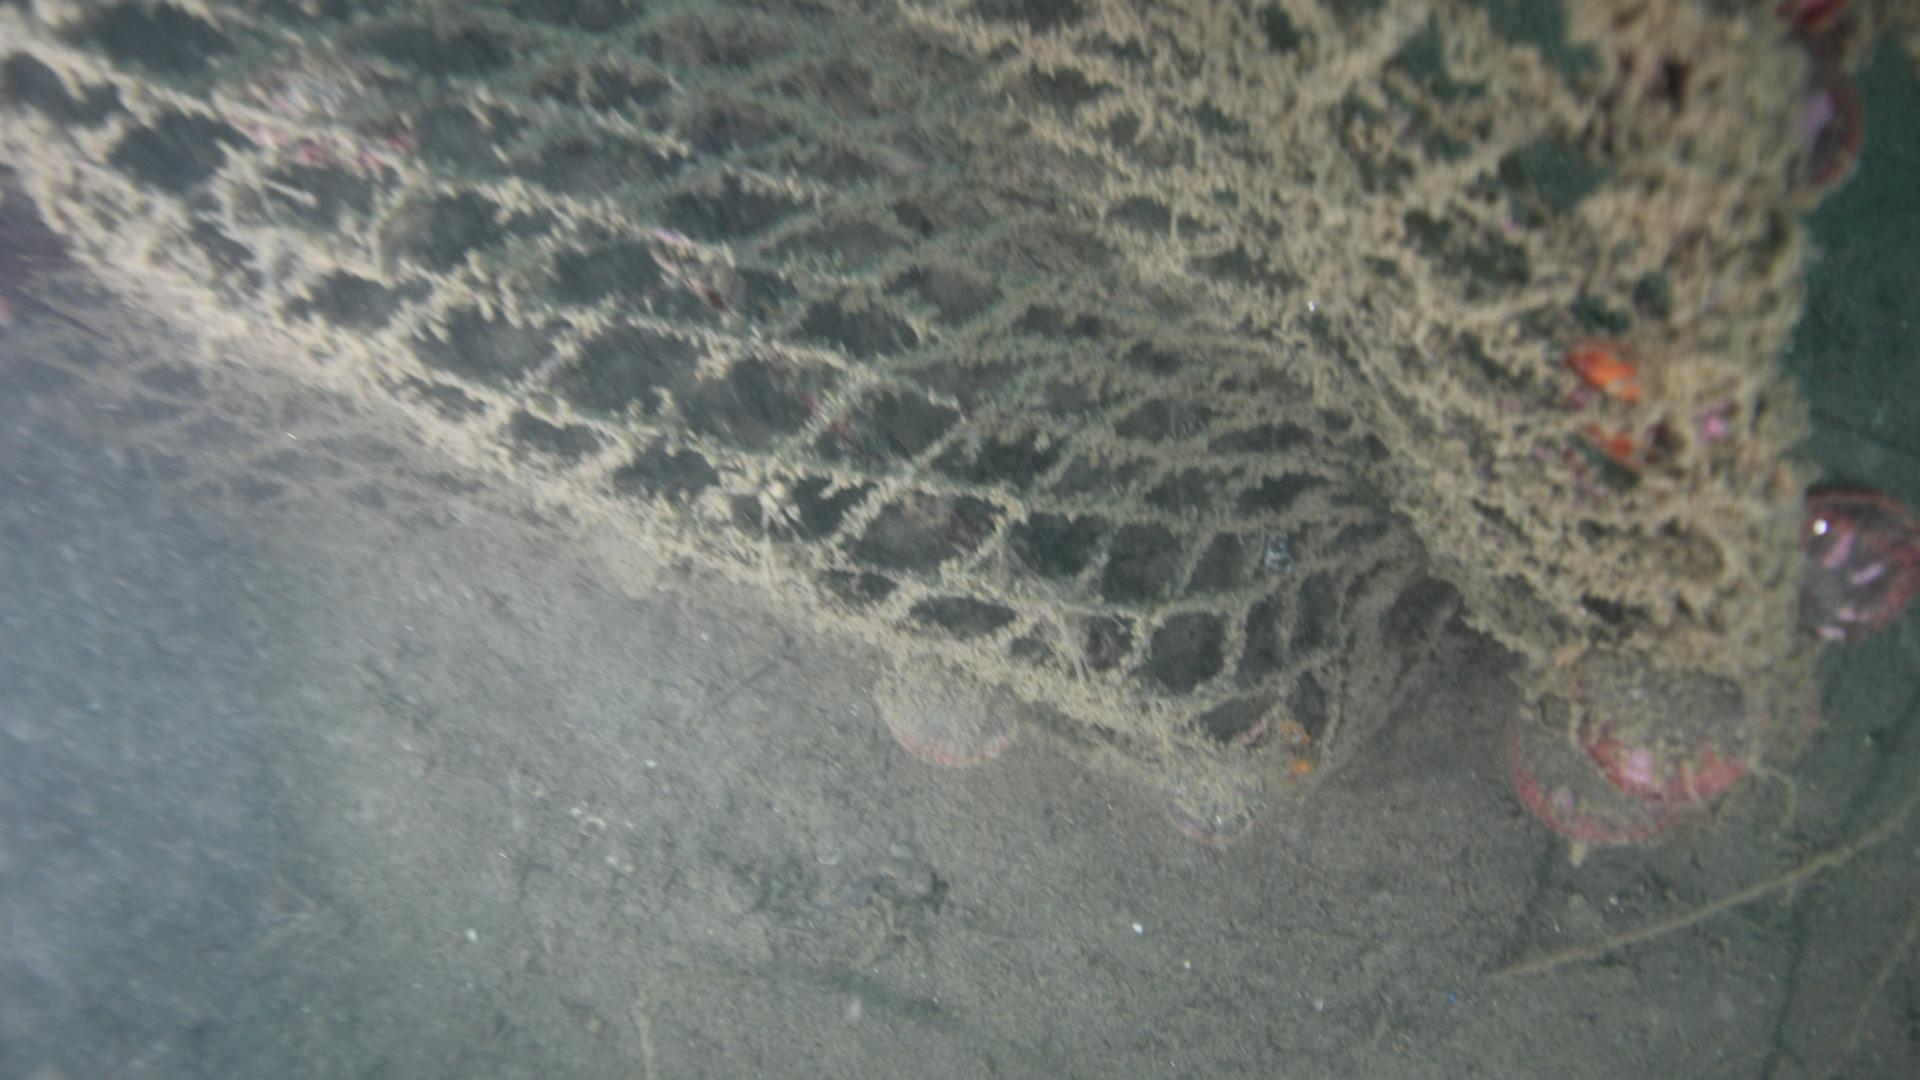fish net: (0, 0, 1619, 811)
